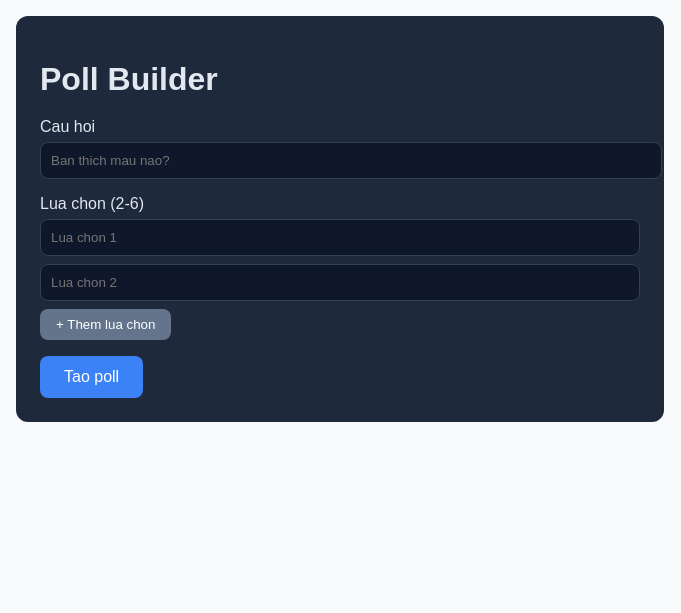
Scenario: CreatePoll › tạo poll thành công khi nhập đủ dữ liệu
Type "Bạn thích màu gì?" into the field with placeholder "Ban thich mau nao?" at (351, 161), box [40,142,662,179]
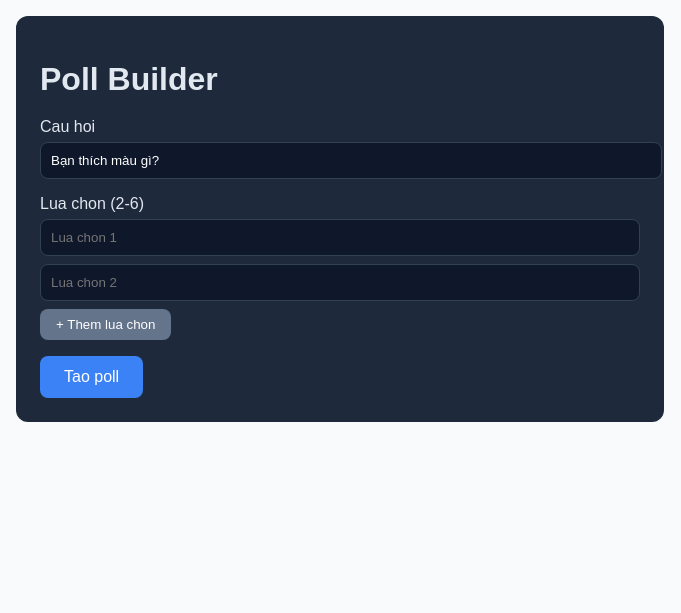
Type "Đỏ" into the field with placeholder "Lua chon 1" at (340, 238), box [40,219,640,256]
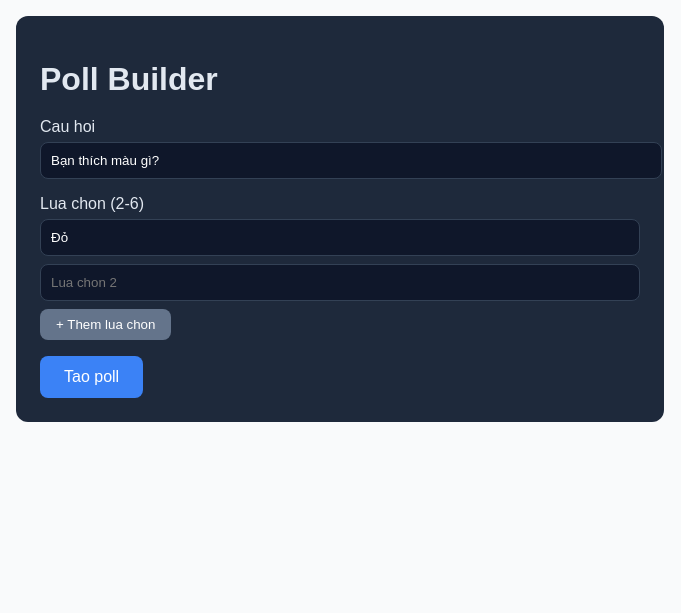
Type "Xanh" into the field with placeholder "Lua chon 2" at (340, 283), box [40,264,640,301]
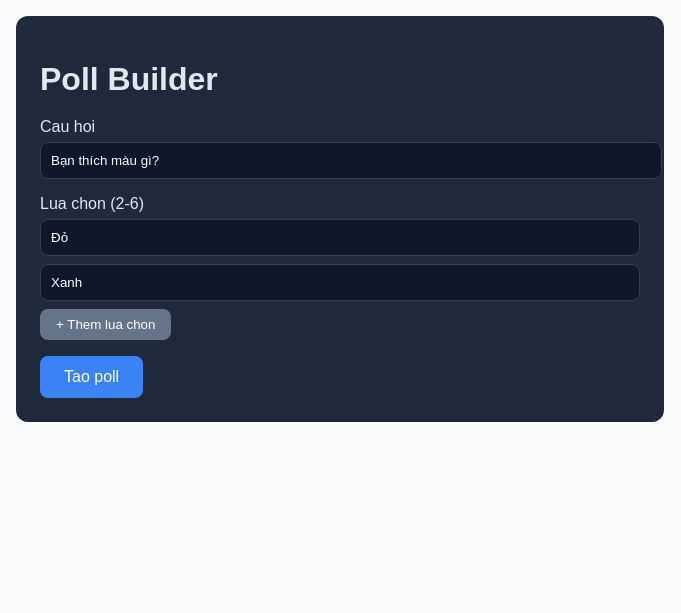
Click the button "Tao poll" at (92, 377), box [40,356,143,398]
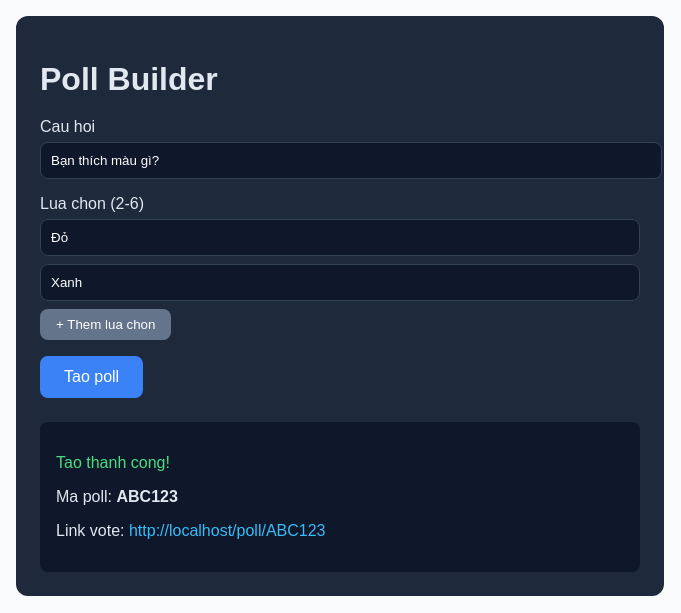
Now the text "Tao thanh cong!" is shown, box [56,454,170,471]
Now the text "ABC123" is shown, box [116,488,178,505]
